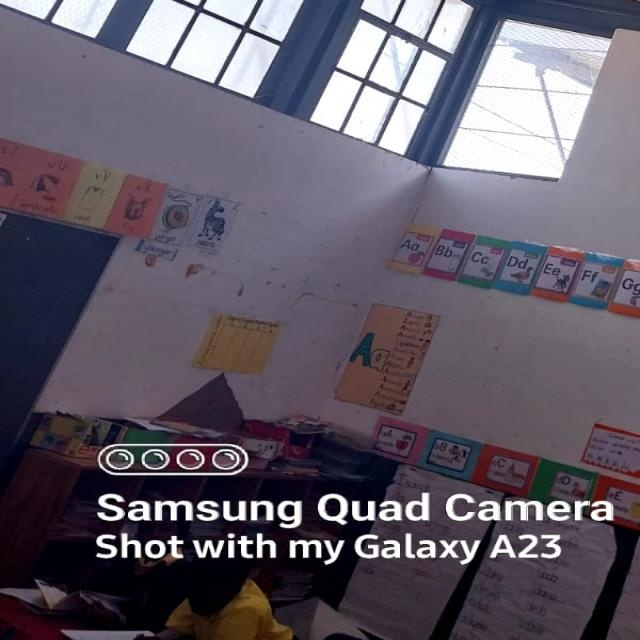fluorescent tube: (573, 0, 640, 58)
